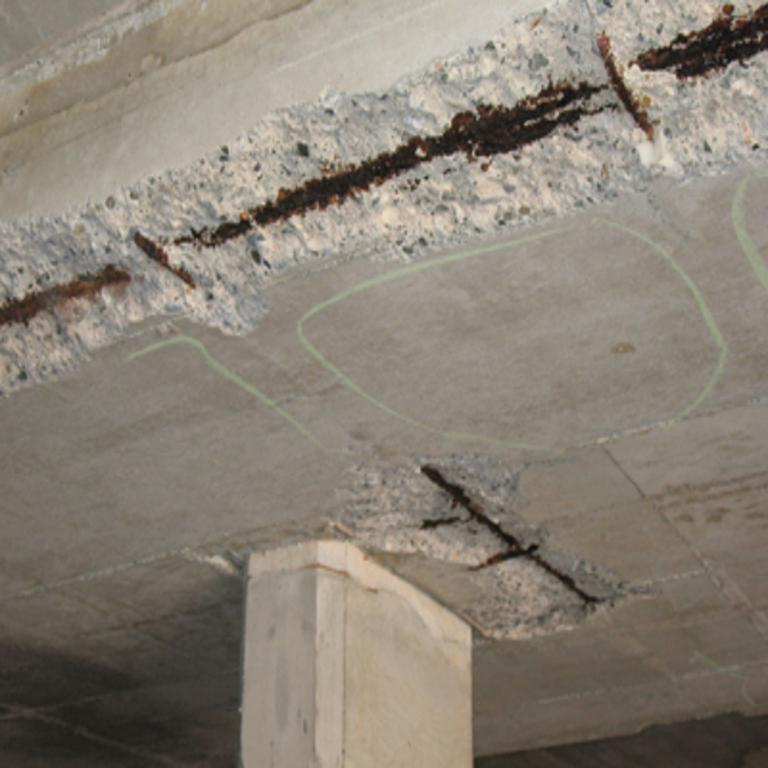exposed_rebar: (132, 33, 656, 290), (420, 464, 603, 608), (630, 5, 768, 81), (421, 516, 462, 530)
spalling: (1, 1, 768, 393), (325, 454, 630, 636)
